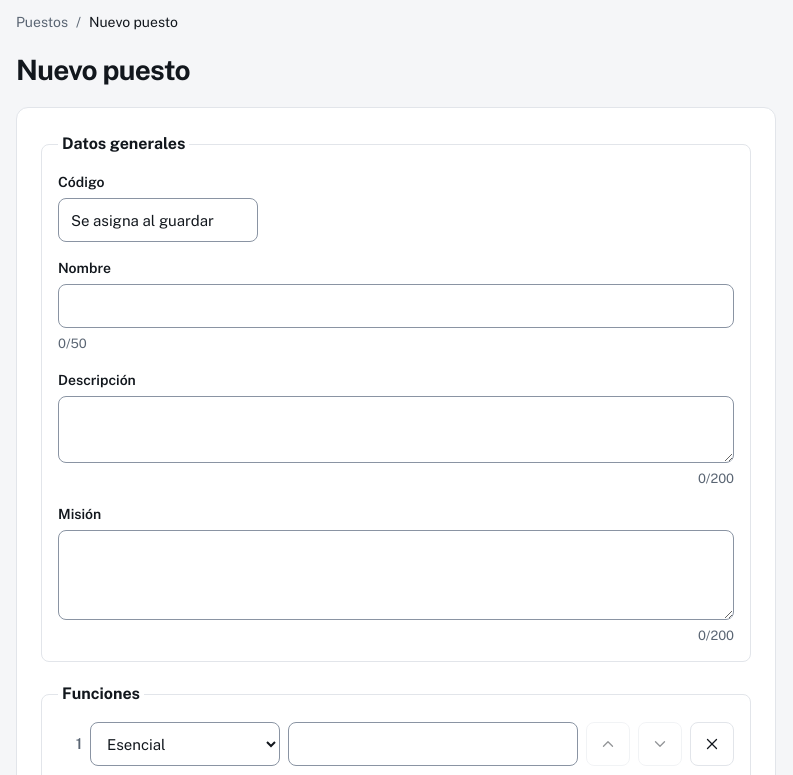
PuestoFormPage (crear) › muestra contadores de caracteres en nombre, descripción y misión
This screenshot has width=793, height=775.
Type "Analista" into the field labelled "Nombre".
click(396, 306); type("Analista")  # box [58, 284, 734, 328]
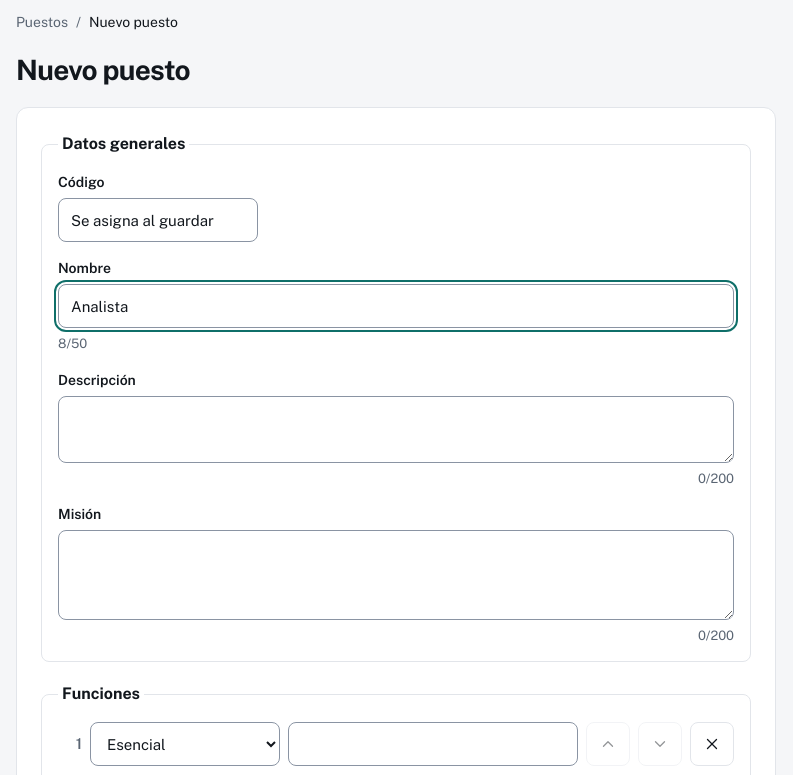
Type "Hola" into the text box labelled "Descripción".
click(396, 429); type("Hola")  # box [58, 396, 734, 462]
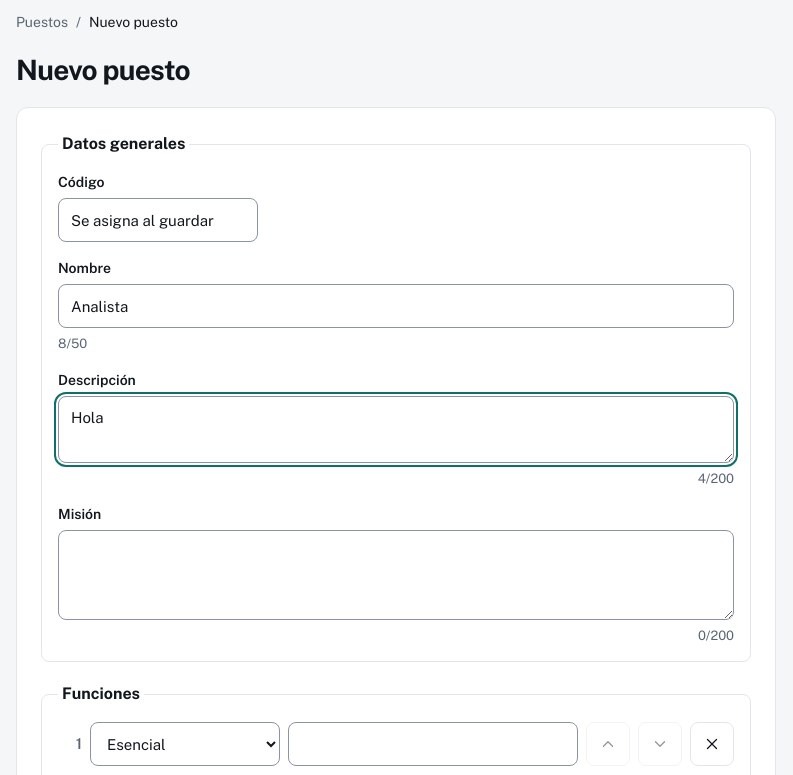
Expected: the text "0/200" is shown, [698, 626, 734, 645]
Now the text "8/50" is shown, box [58, 336, 87, 351]
Now the text "4/200" is shown, box [698, 468, 734, 488]
